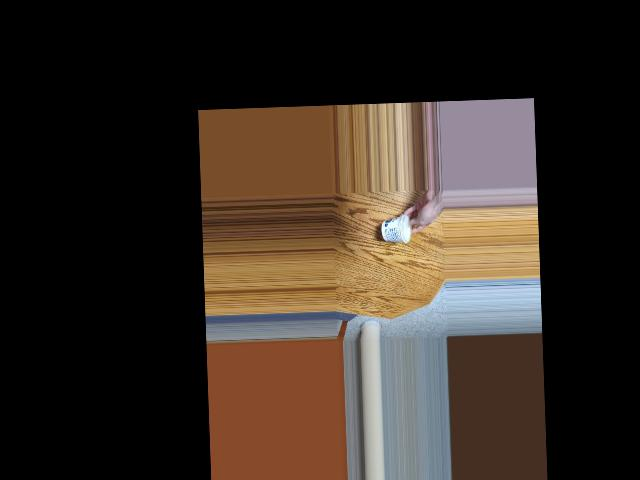cotage: (382, 212, 413, 243)
